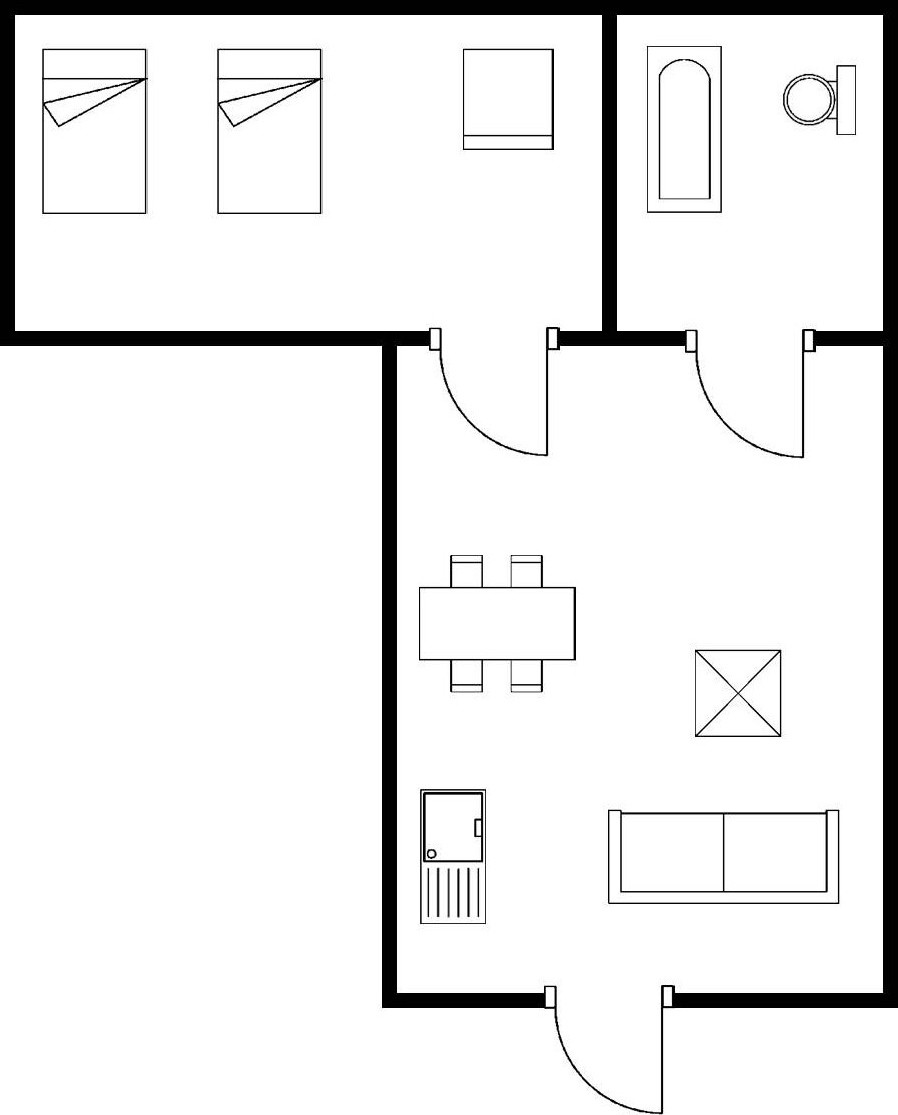bed: (35, 42, 155, 220), (213, 43, 327, 219)
coffee_table: (690, 643, 789, 745)
dining_table: (411, 548, 584, 697)
large_sink: (778, 61, 864, 145)
large_sofa: (601, 804, 846, 911)
sink: (414, 784, 492, 930)
small_sofa: (457, 43, 559, 157)
tub: (641, 39, 729, 218)
